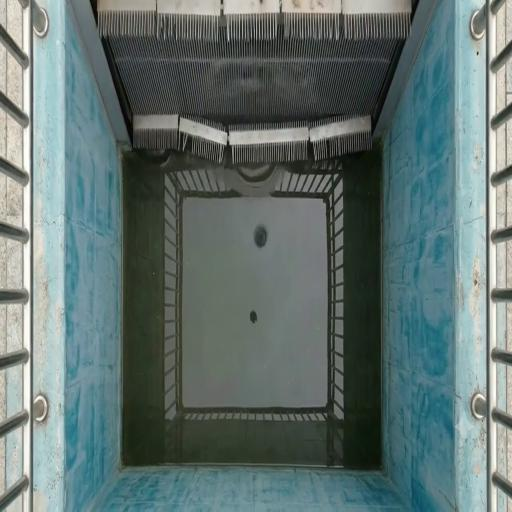rake_broken: (152, 8, 180, 40)
